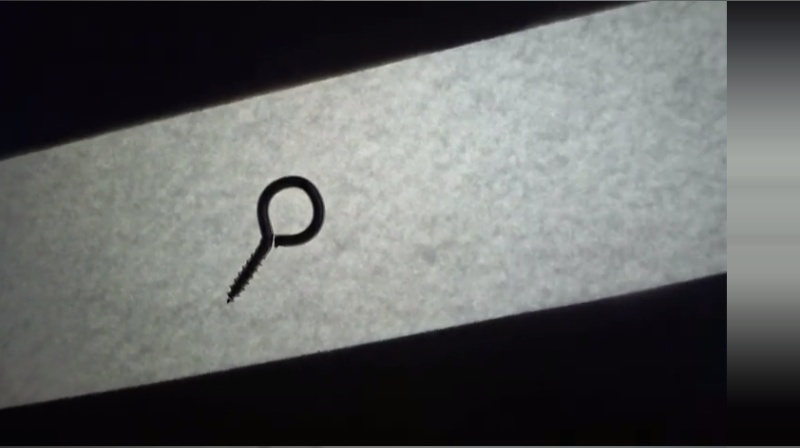O001: (222, 171, 327, 307)
